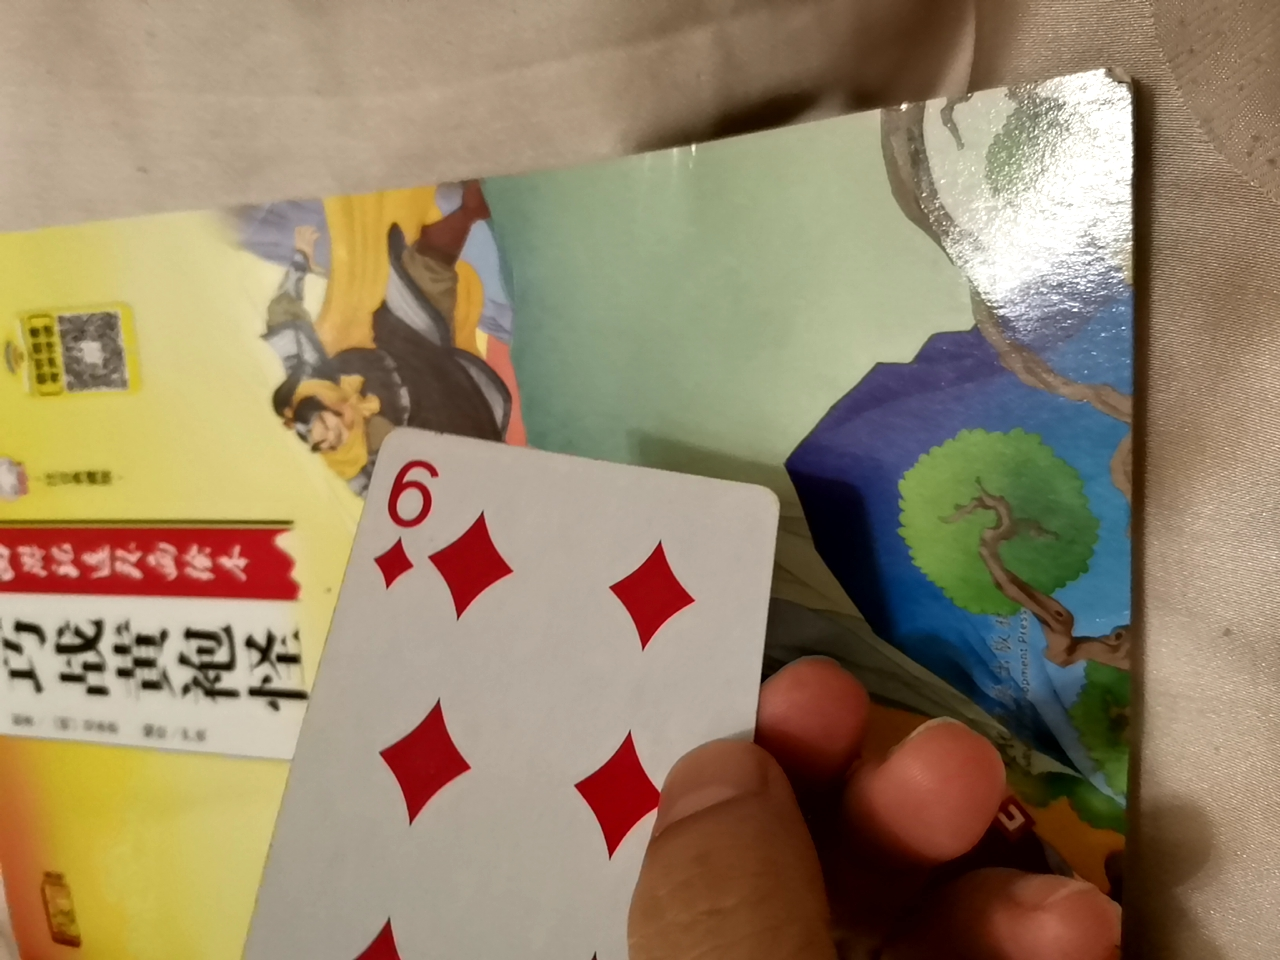fk 6: (266, 382, 803, 960)
